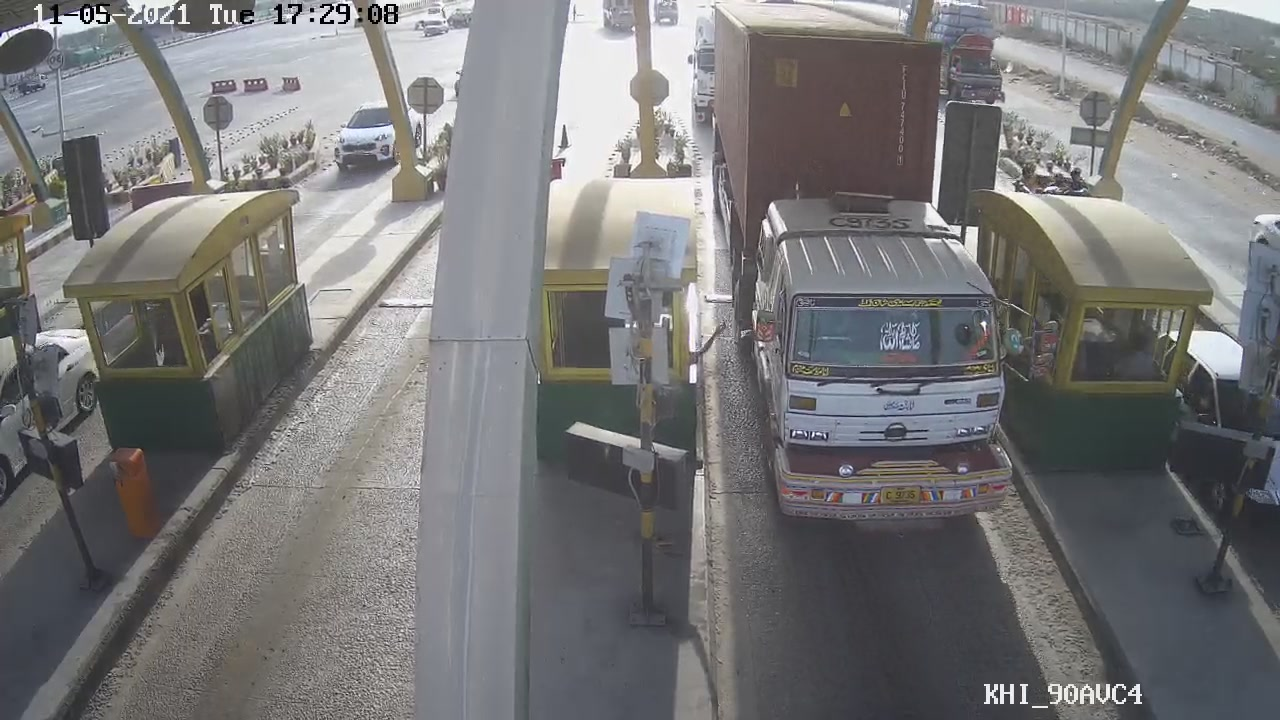F6: (705, 22, 1006, 537)
